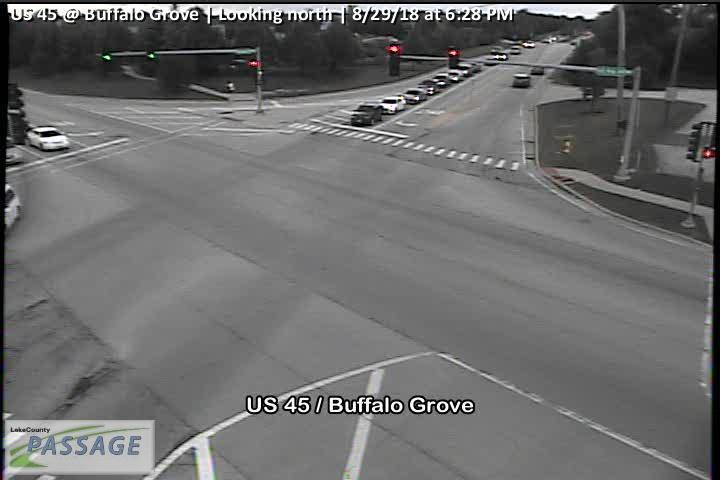SUV: (349, 102, 384, 127), (511, 72, 531, 90), (521, 37, 537, 51)
Sedan: (28, 126, 70, 154), (380, 96, 407, 113), (405, 86, 427, 104), (422, 75, 439, 95), (436, 73, 455, 89), (457, 63, 475, 76), (468, 59, 484, 73), (449, 68, 461, 82), (483, 56, 498, 67), (531, 64, 543, 74)
